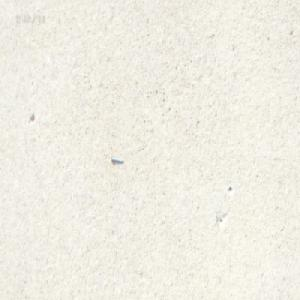Nail: (110, 154, 123, 163)
